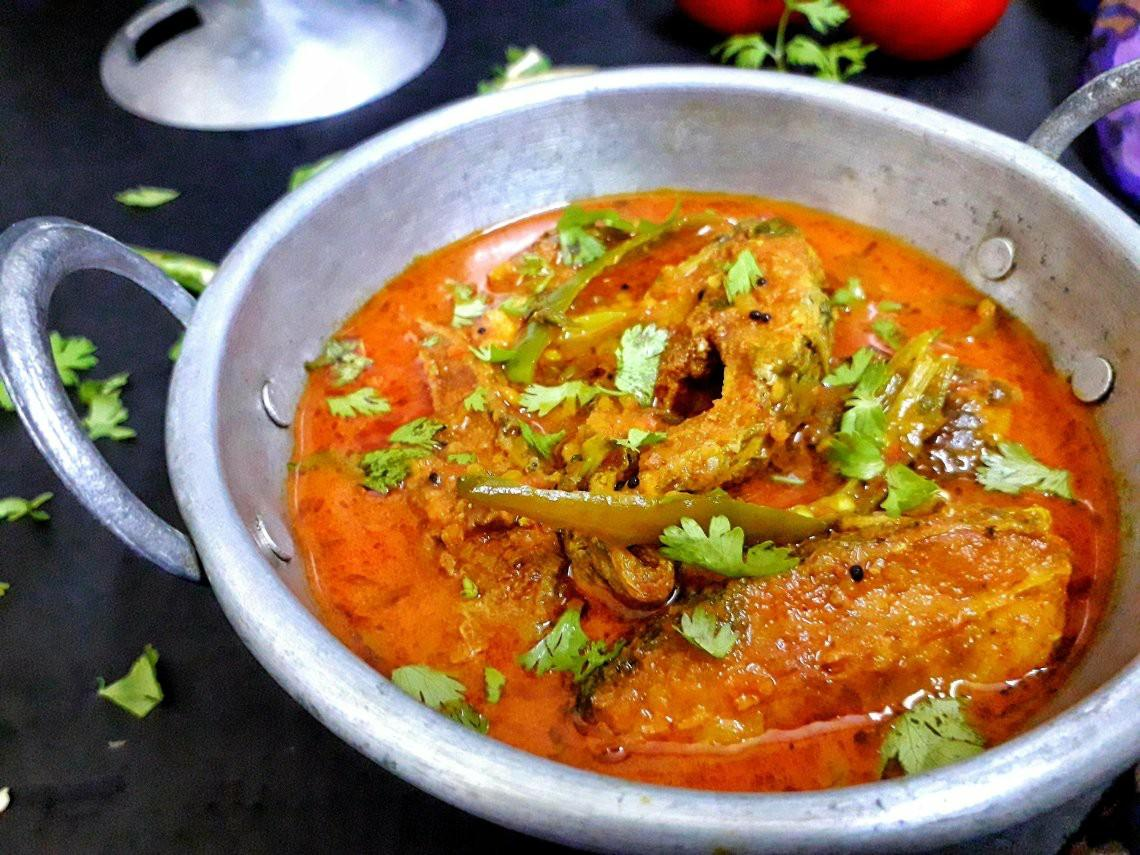FishCurry: (299, 187, 1126, 783)
